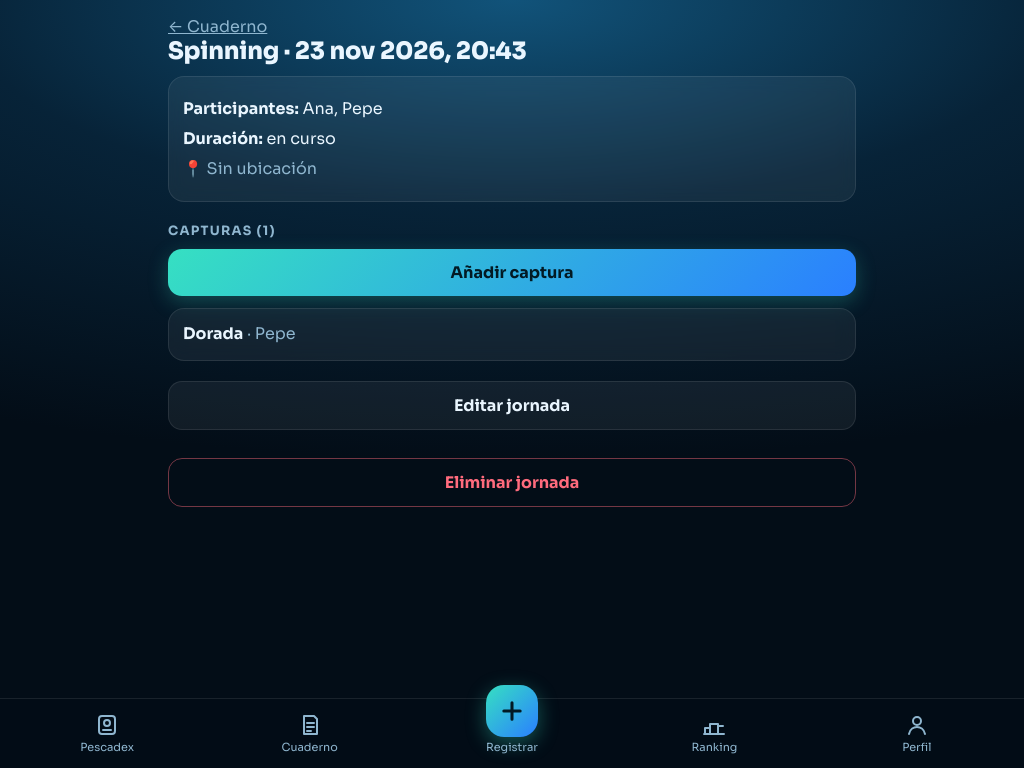
eliminar jornada › si hay capturas de otros, avisa y no la borra
Step 1. Click the button "Eliminar jornada" → click(512, 482), box [168, 458, 856, 506]
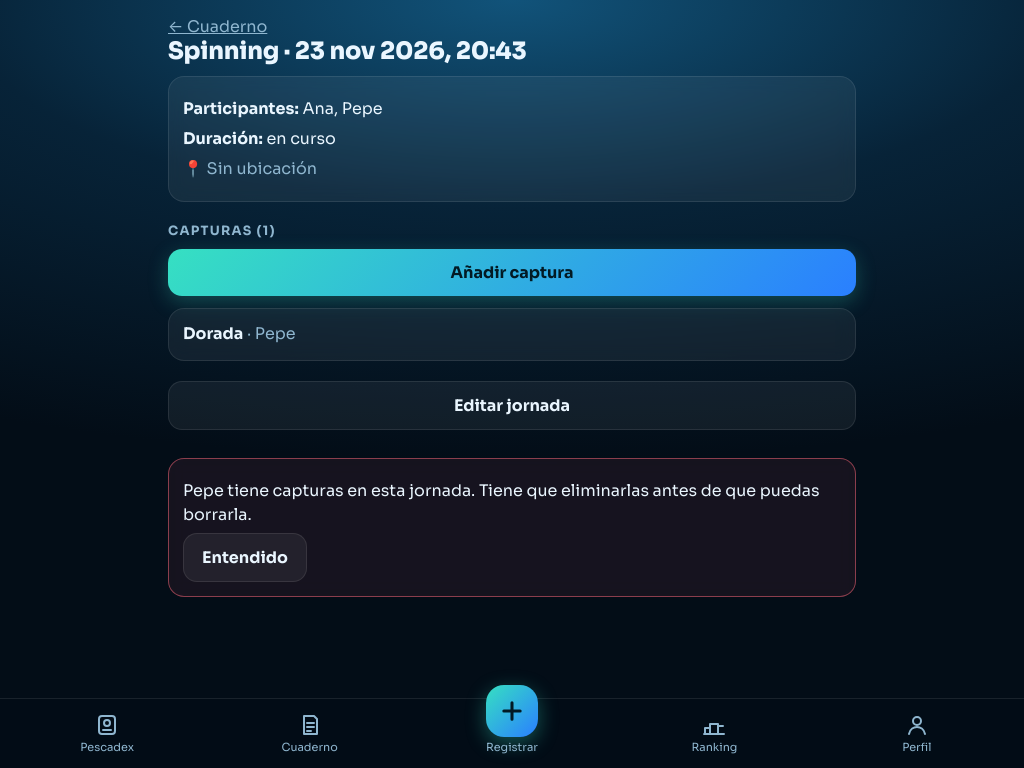
Check: the text "Pepe tiene capturas en esta jornada. Tiene que eliminarlas antes de que puedas borrarla." is shown, box [183, 478, 841, 526]
